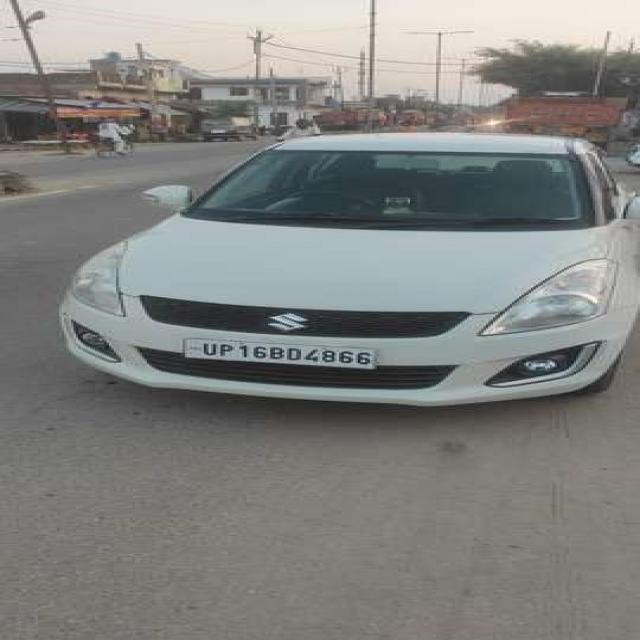Plate: (181, 336, 376, 371)
